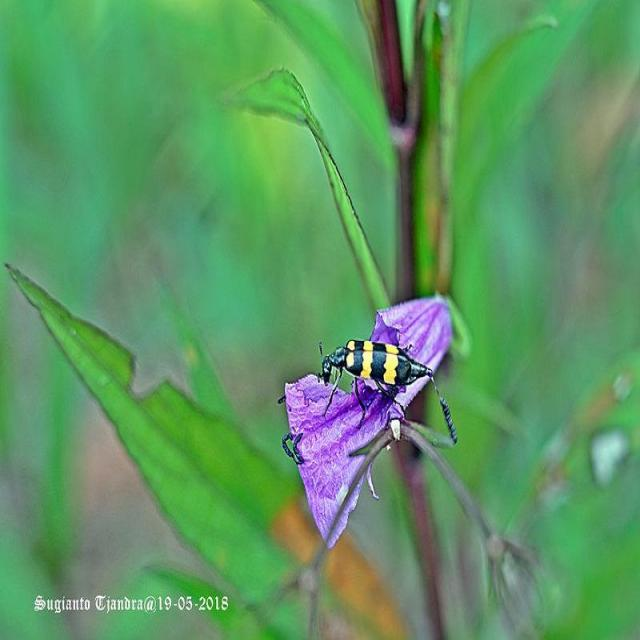BlisterBeetle-Adult-: (309, 328, 440, 431)
